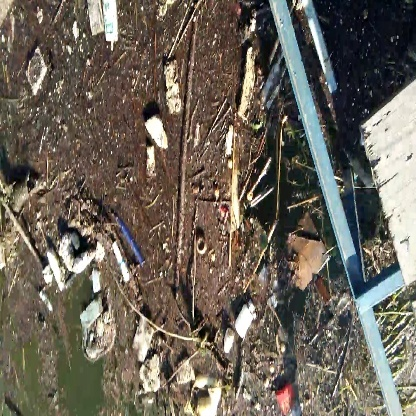branch: (175, 117, 193, 265)
